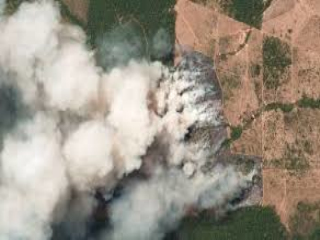smoke: (8, 45, 249, 209)
